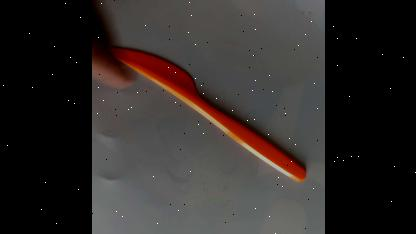Others: (103, 43, 309, 183)
